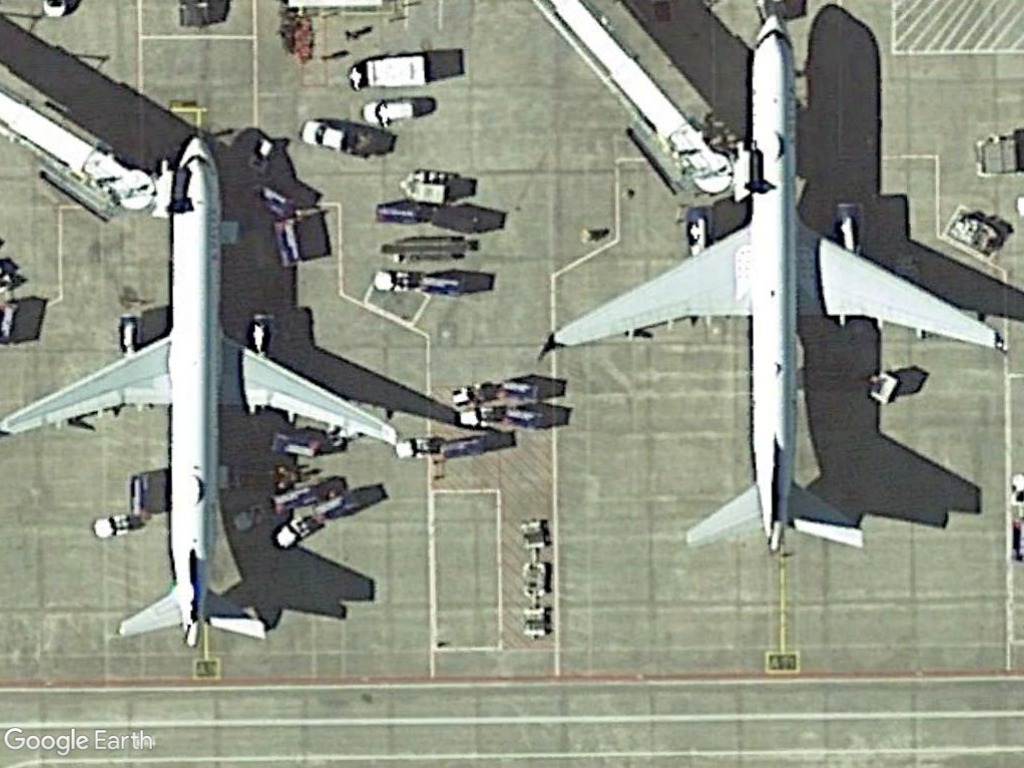airliner: (532, 11, 1004, 561), (3, 129, 409, 665)
other: (295, 118, 376, 160)
van: (345, 48, 430, 97)
